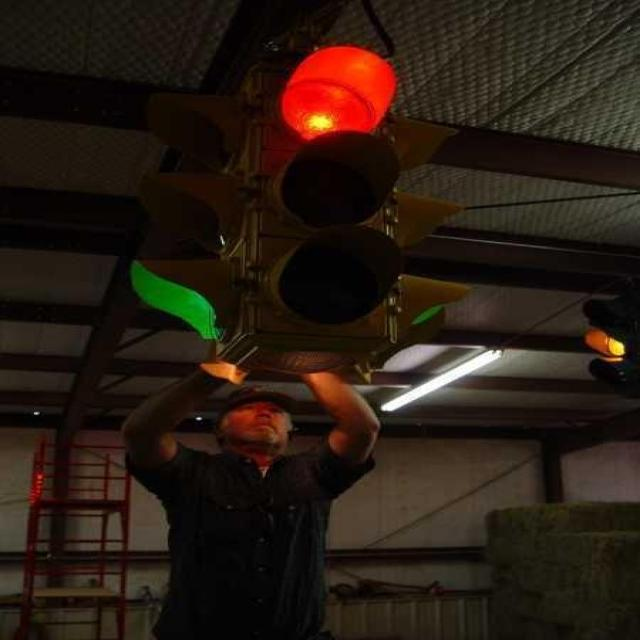Traffic Light -Red-: (253, 3, 417, 396)
